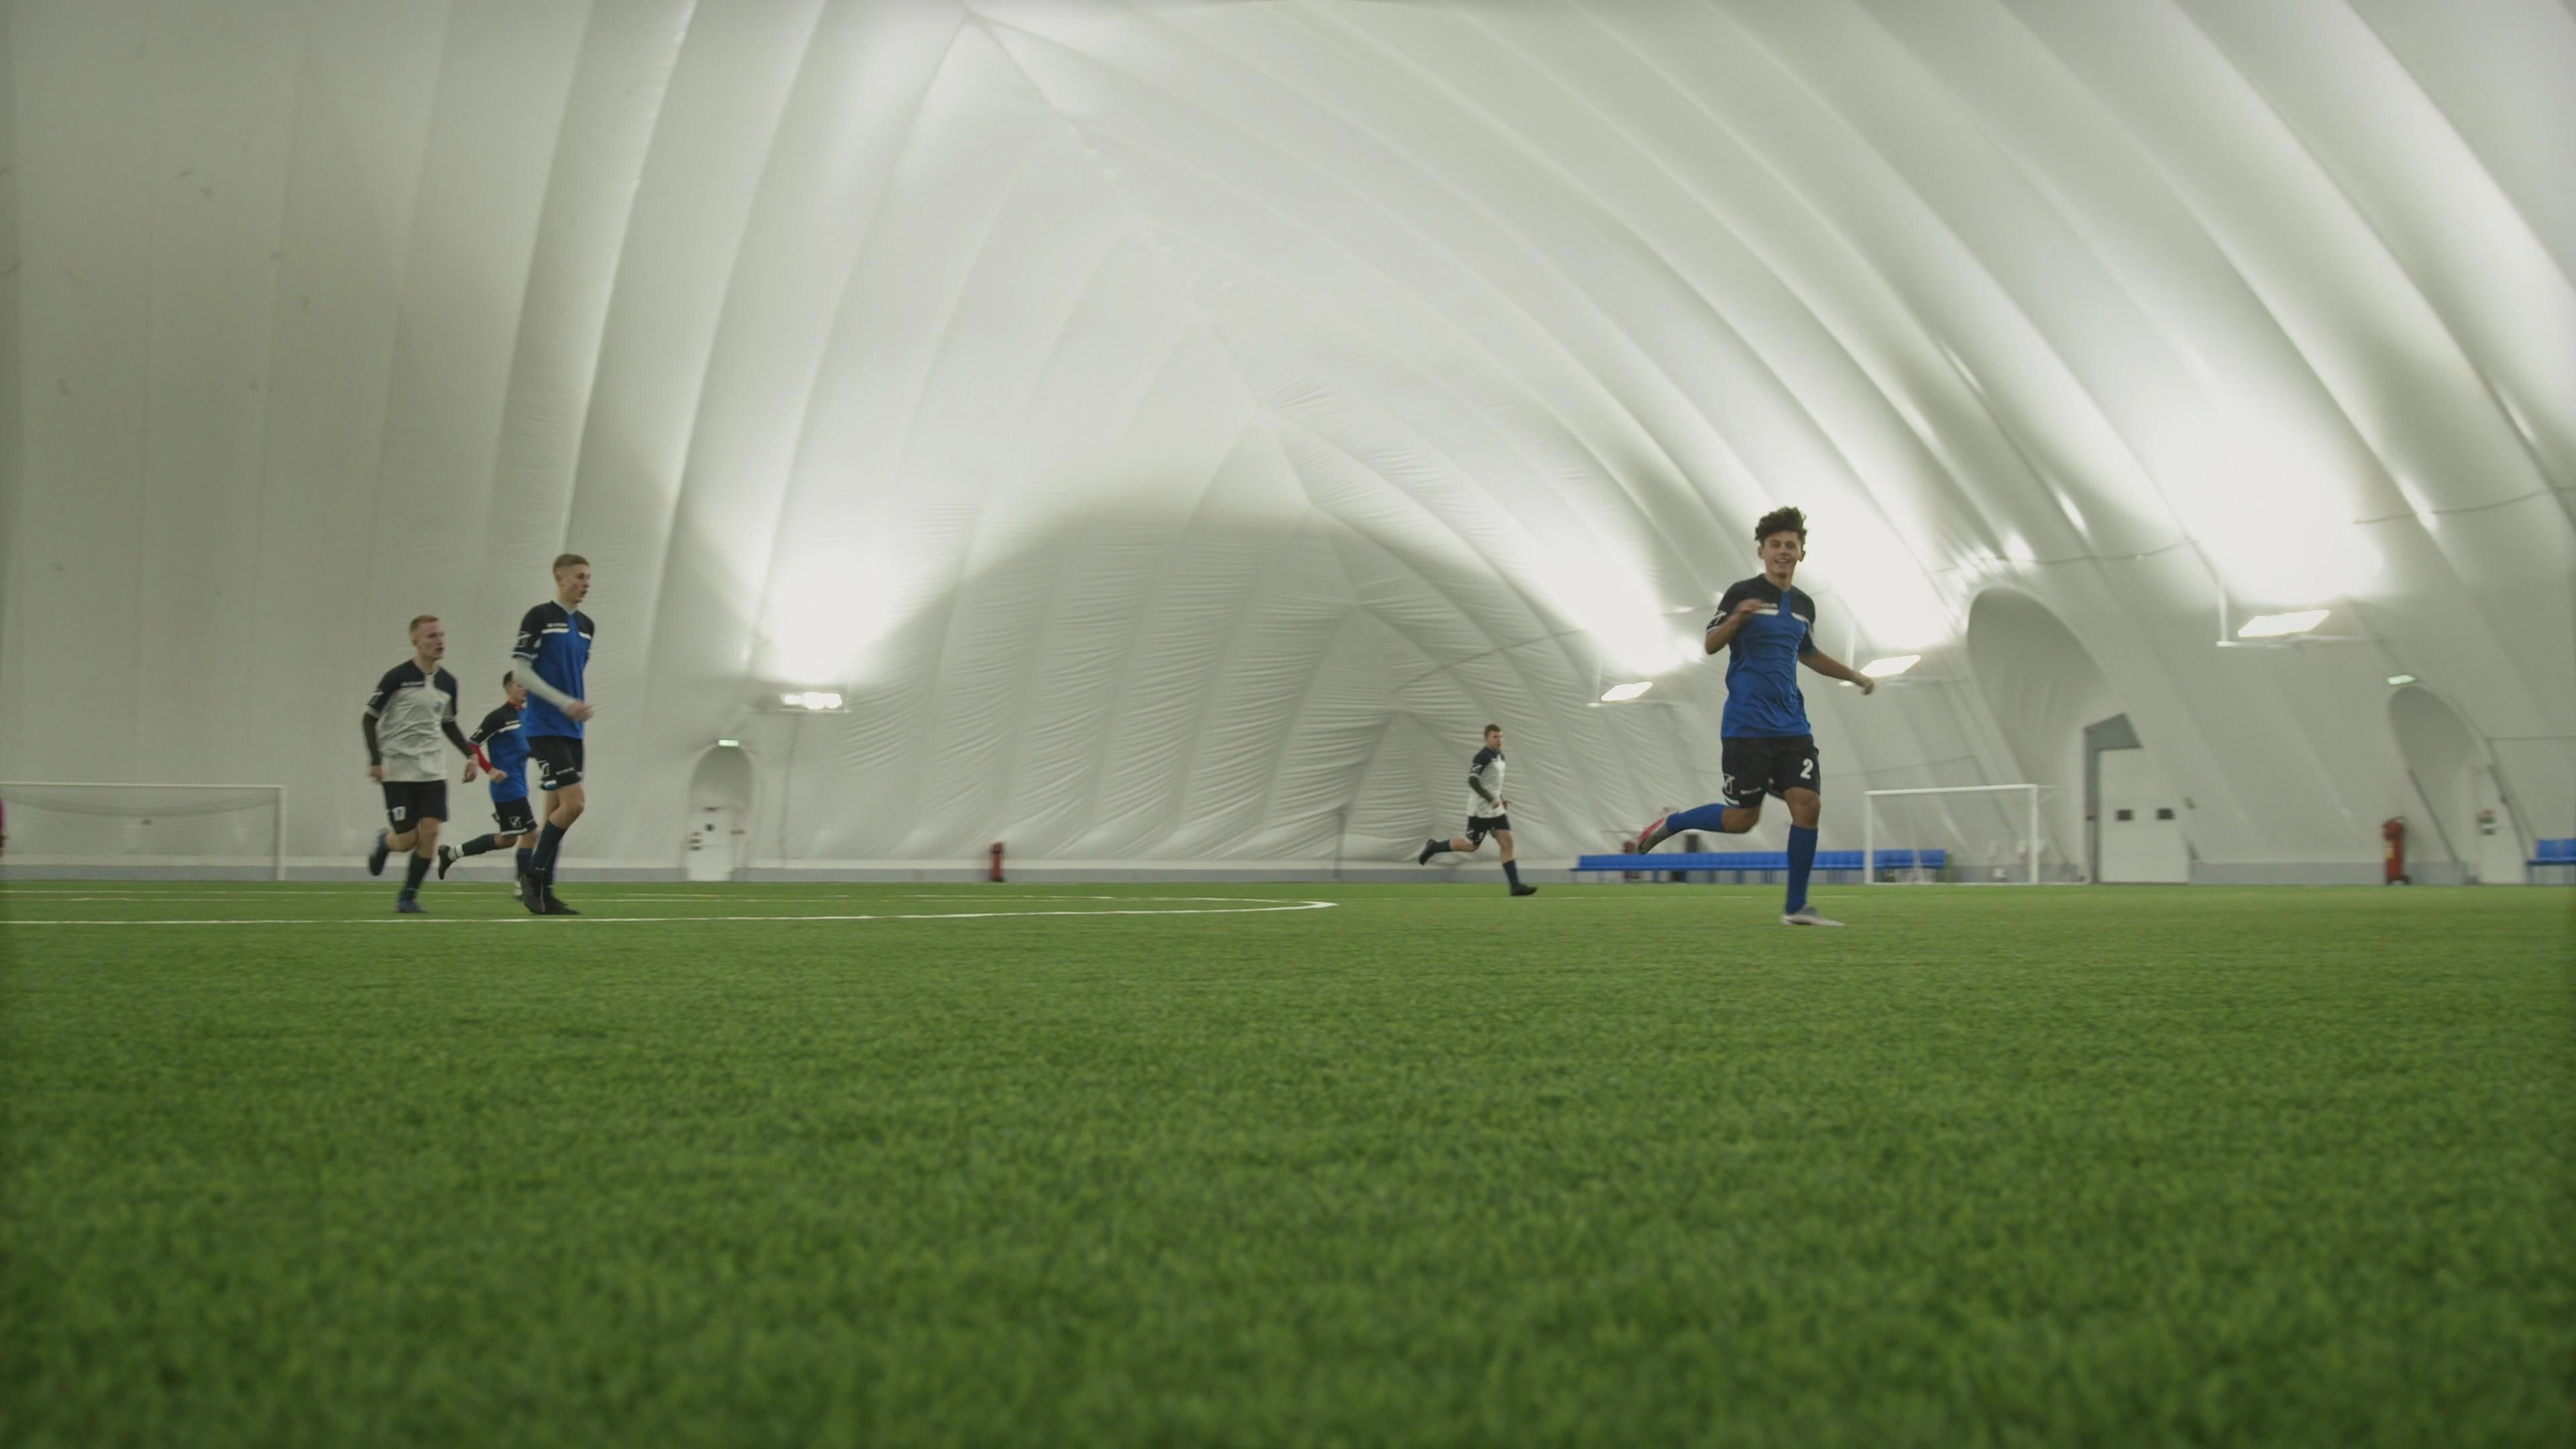team1: (1603, 506, 1905, 925), (492, 552, 602, 915), (435, 672, 536, 897)
team2: (359, 607, 476, 916), (1414, 724, 1525, 897)
